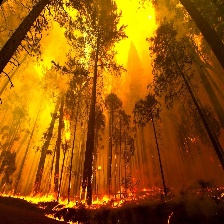fire: (1, 177, 219, 224)
